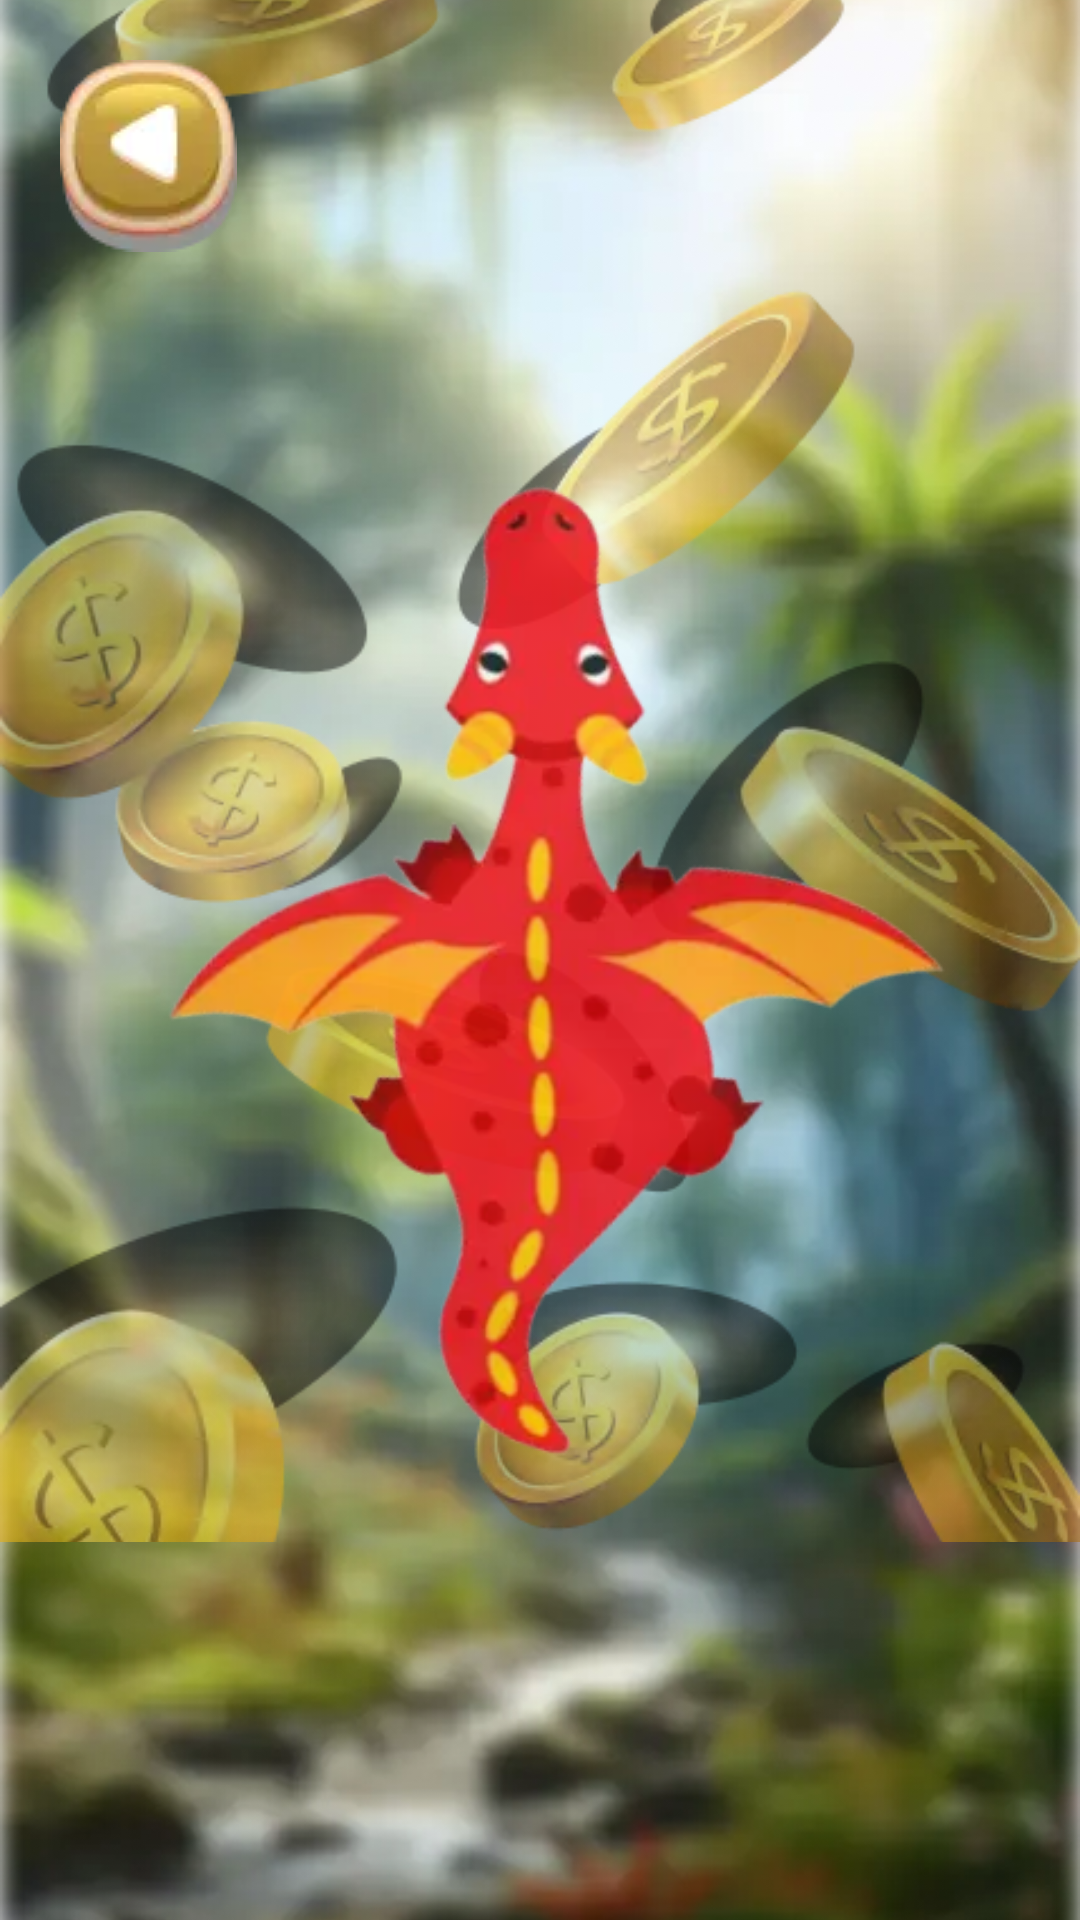

Where to tap for icons on this 1080 x 1920 app screen, as (x=x, y=y):
back: (x=148, y=156)
